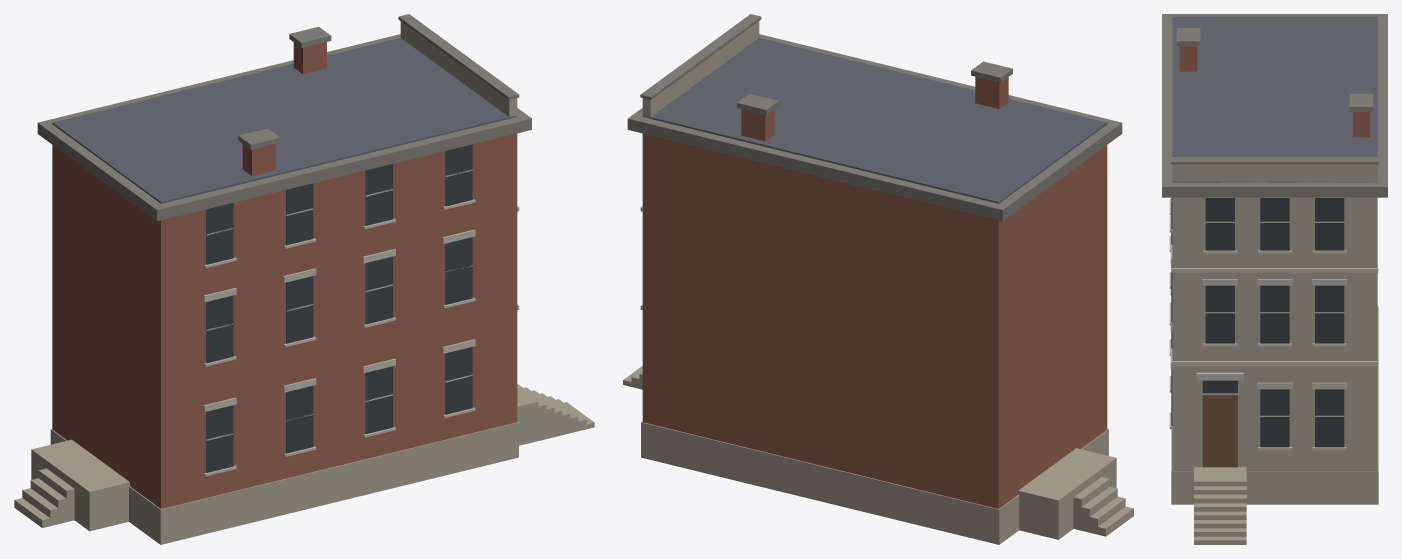
File: house_1913_indiana__draft_1904.glb
The picture shows the model from 3 angles, left to right: view 1: azimuth 30°, elevation 25°; view 2: azimuth 150°, elevation 25°; view 3: azimuth 270°, elevation 25°; orthographic projection. The views are drawn at different scales.
Visible parts, largest first — view 1: house_1913_indiana__draft_1904; view 2: house_1913_indiana__draft_1904; view 3: house_1913_indiana__draft_1904.
Boxes of the visible parts, left/top/right/bottom form: house_1913_indiana__draft_1904: left=14, top=14, right=594, bottom=544; house_1913_indiana__draft_1904: left=623, top=14, right=1133, bottom=544; house_1913_indiana__draft_1904: left=1162, top=14, right=1387, bottom=544.
Size of the model in its own units: 19.25 by 13.34 by 7.7.
